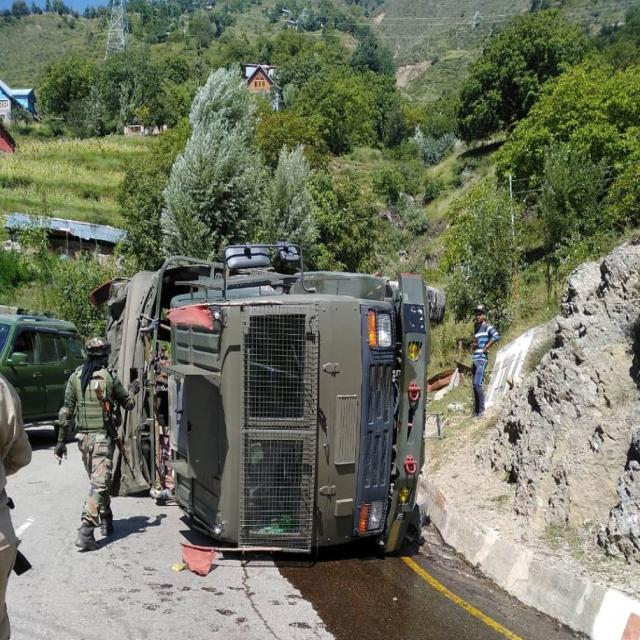accident: (106, 241, 441, 553)
